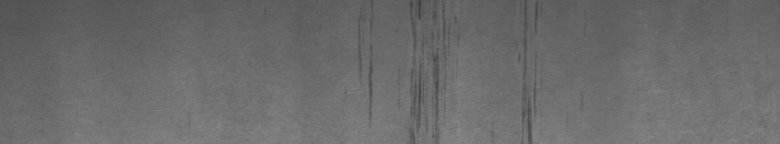ka: (358, 4, 449, 136)
